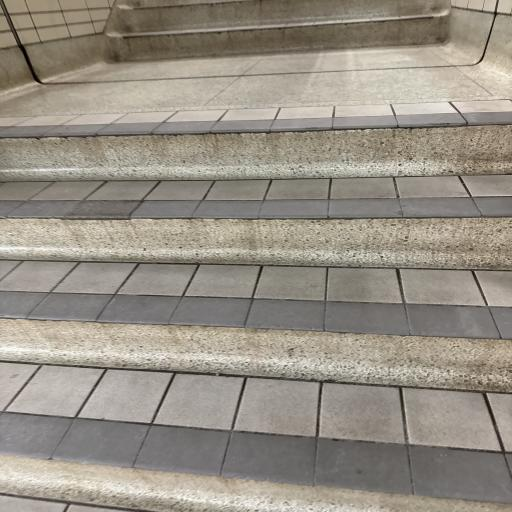Stairs: (0, 0, 512, 512), (106, 0, 450, 61)
